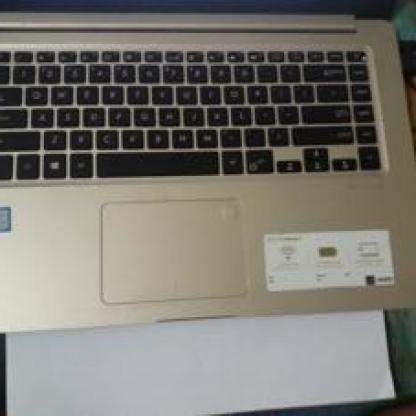keyboard: (0, 42, 403, 202)
